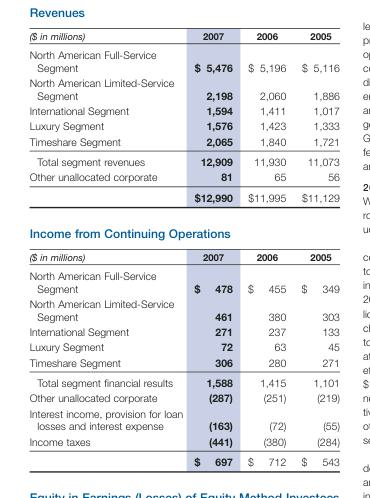table: (28, 29, 338, 467)
table column: (28, 29, 187, 467), (239, 29, 292, 467), (187, 29, 239, 467), (292, 29, 338, 467)
table column header: (28, 29, 338, 44)
table projected row header: (28, 214, 338, 244)
table row: (28, 44, 338, 74), (28, 214, 338, 244), (28, 265, 338, 295), (28, 74, 338, 102), (28, 186, 338, 214), (28, 295, 338, 323), (28, 405, 338, 433), (28, 244, 338, 265), (28, 132, 338, 150), (28, 150, 338, 168), (28, 168, 338, 186), (28, 353, 338, 371), (28, 371, 338, 389), (28, 433, 338, 450), (28, 450, 338, 467), (28, 389, 338, 405), (28, 29, 338, 44), (28, 102, 338, 117), (28, 117, 338, 132), (28, 323, 338, 338), (28, 338, 338, 353)
